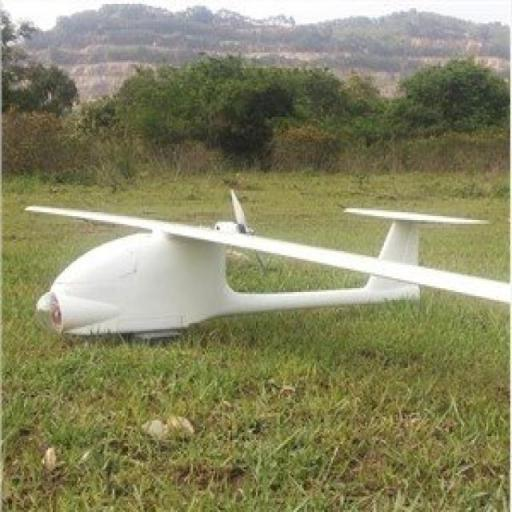uav: (15, 195, 512, 339)
